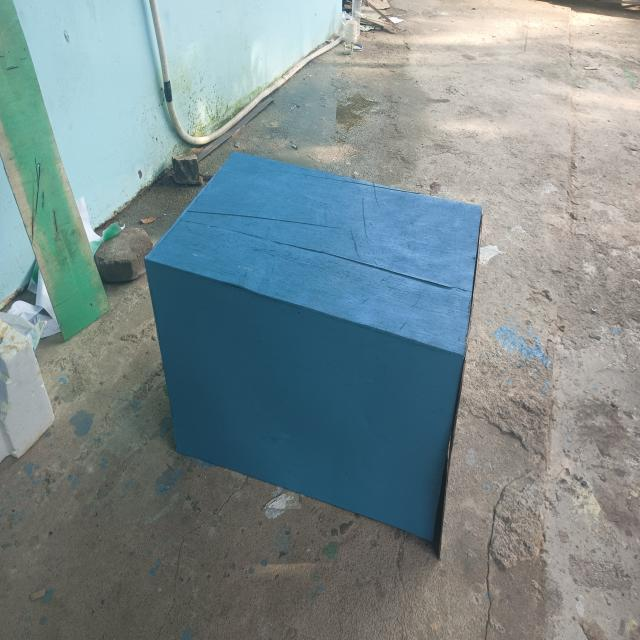blue_box: (152, 147, 485, 562)
